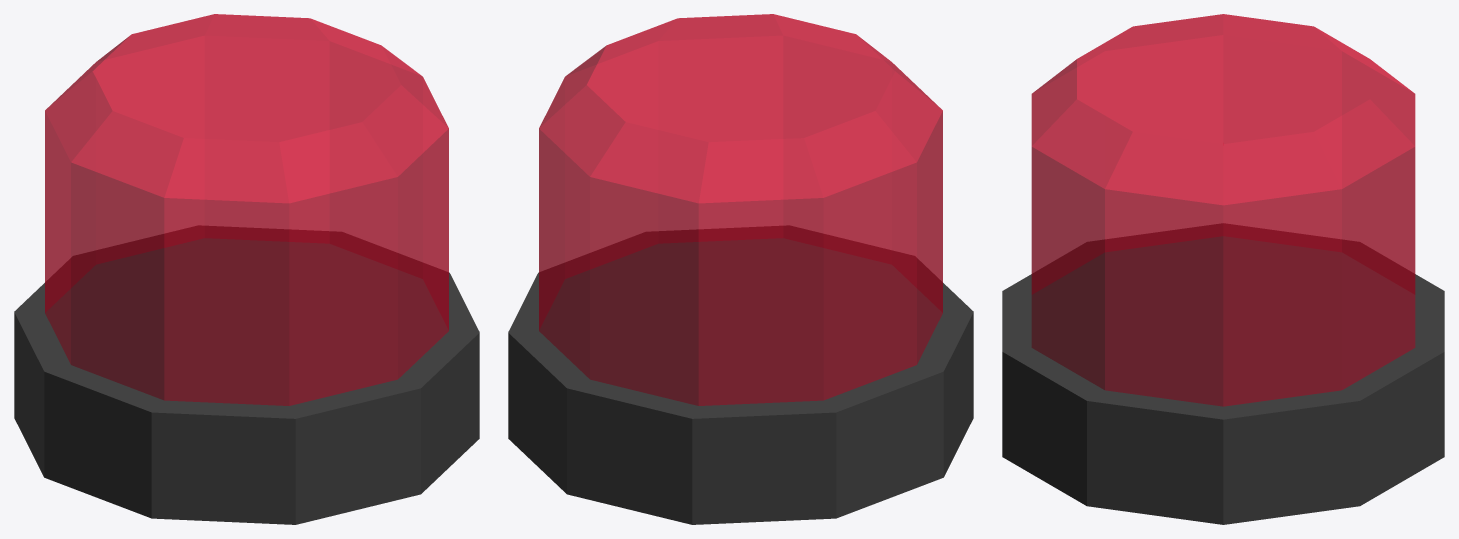
File: AlarmBase.fbx
3 views of the same model, side by side, from view 1: azimuth 30°, elevation 25°; view 2: azimuth 150°, elevation 25°; view 3: azimuth 270°, elevation 25° (orthographic).
Parts seen in each view (by area): view 1: polySurface1; view 2: polySurface1; view 3: polySurface1.
Part boxes in pixels (box(x1,y1,x2,y2)): polySurface1: box(14, 14, 479, 524); polySurface1: box(508, 14, 973, 524); polySurface1: box(1002, 14, 1444, 524).
Size of the model in its own units: 2 by 1.65 by 1.9.
